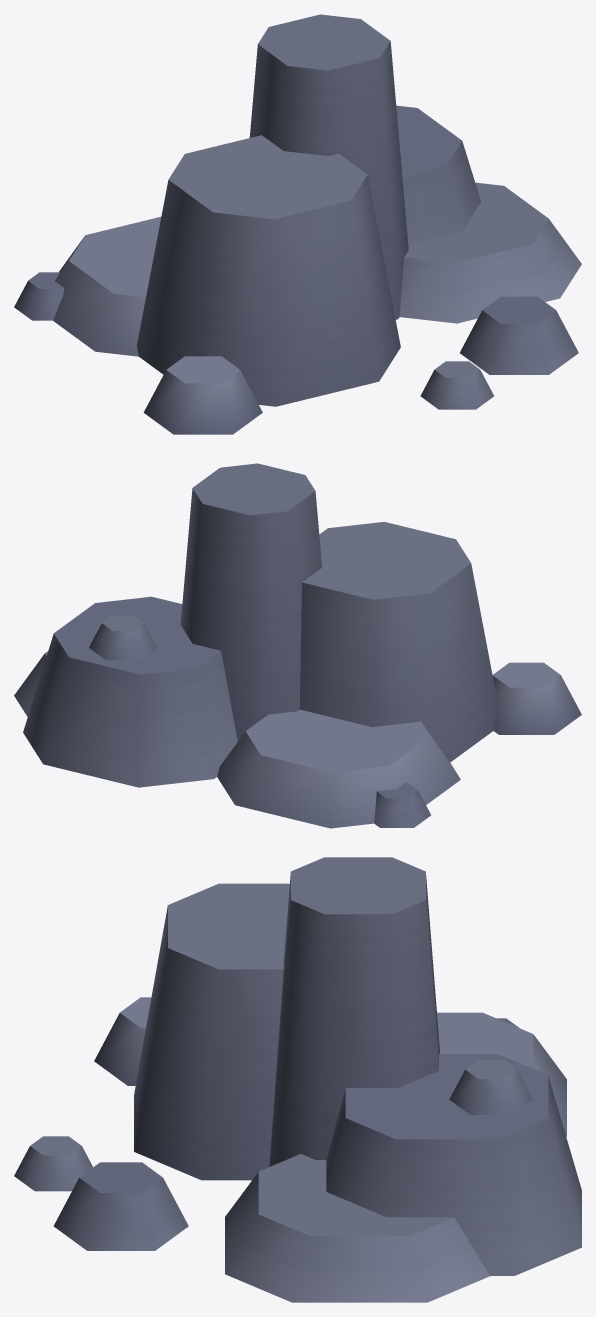
Rendered from stones.fbx.
3 renders of one model, top to bottom at view 1: azimuth 30°, elevation 25°; view 2: azimuth 150°, elevation 25°; view 3: azimuth 270°, elevation 25°, orthographic. The views are drawn at different scales.
Visible parts, largest first — view 1: stones; view 2: stones; view 3: stones.
Boxes of the visible parts, x1,y1,x2,y2 form: stones: (14,14,581,434); stones: (14,463,581,828); stones: (14,857,581,1302).
Bounding box in the file's own units: 89.24 × 45.39 × 80.45.
